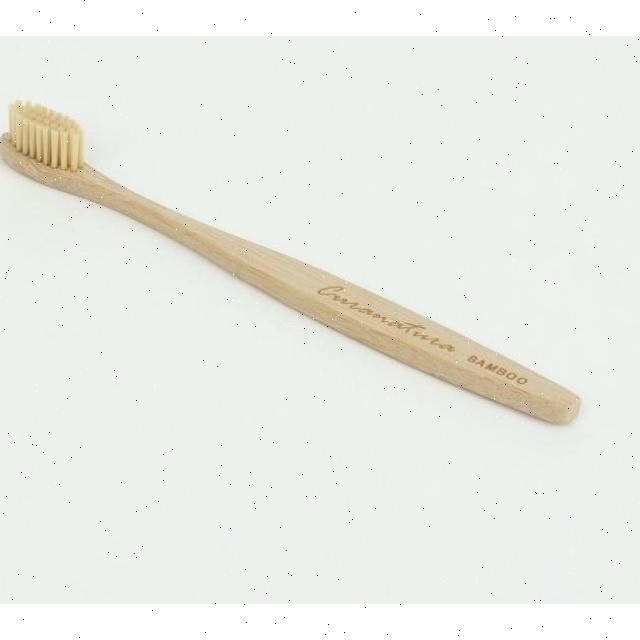toothbrush: (0, 73, 640, 455)
